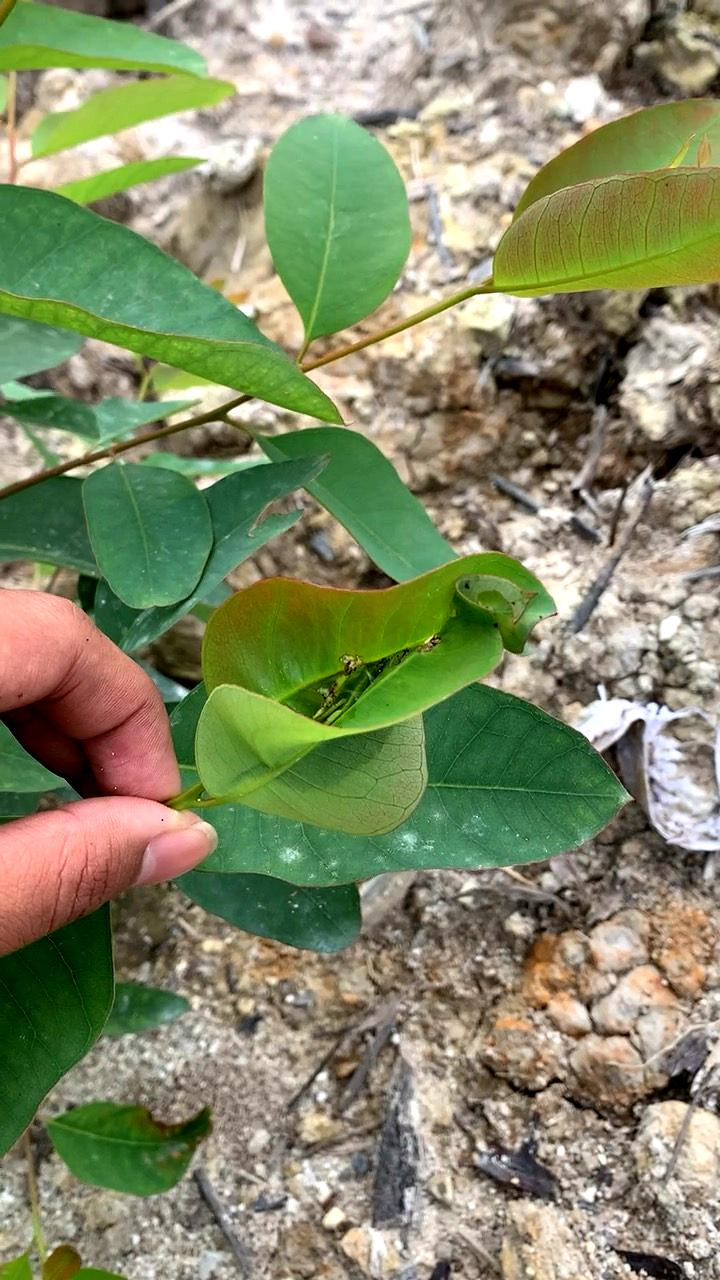Leaf Roller - Leaf: (167, 533, 576, 860)
